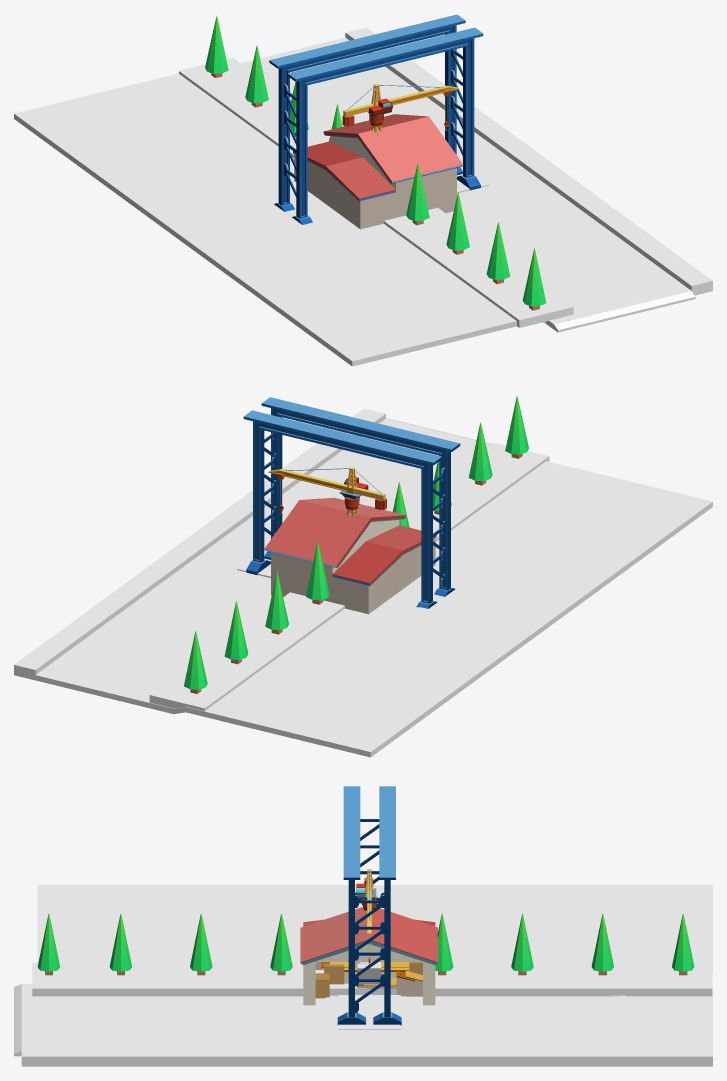
File: Map_Model.fbx
3 views of the same model, one above another, from view 1: azimuth 30°, elevation 25°; view 2: azimuth 150°, elevation 25°; view 3: azimuth 270°, elevation 25° (orthographic).
Visible parts, largest first — view 1: Plane_Xuong, Group_Tree, CanTruc, NhaXuong_2, NhaXuong_1, CanCau; view 2: Plane_Xuong, Group_Tree, CanTruc, NhaXuong_2, NhaXuong_1, CanCau; view 3: Plane_Xuong, Group_Tree, CanTruc, NhaXuong_2, NhaXuong_3, Duong_ba, Nha_3, CanCau.
Boxes of the visible parts, x1,y1,x2,y2 form: Plane_Xuong: [14, 27, 712, 366]; Group_Tree: [179, 16, 573, 327]; CanTruc: [269, 14, 483, 224]; NhaXuong_2: [293, 114, 462, 228]; NhaXuong_1: [359, 165, 462, 229]; CanCau: [342, 84, 459, 132]; Plane_Xuong: [14, 408, 712, 757]; Group_Tree: [149, 396, 549, 711]; CanTruc: [243, 397, 460, 608]; NhaXuong_2: [264, 497, 436, 613]; NhaXuong_1: [264, 549, 369, 614]; CanCau: [268, 467, 386, 516]; Plane_Xuong: [14, 885, 712, 1066]; Group_Tree: [32, 913, 712, 996]; CanTruc: [337, 786, 401, 1025]; NhaXuong_2: [300, 907, 437, 980]; NhaXuong_3: [300, 941, 437, 1005]; Duong_ba: [338, 994, 400, 1020]; Nha_3: [330, 962, 422, 996]; CanCau: [356, 869, 377, 964].
Size of the model in its own units: 4.7 by 1.99 by 8.07.
